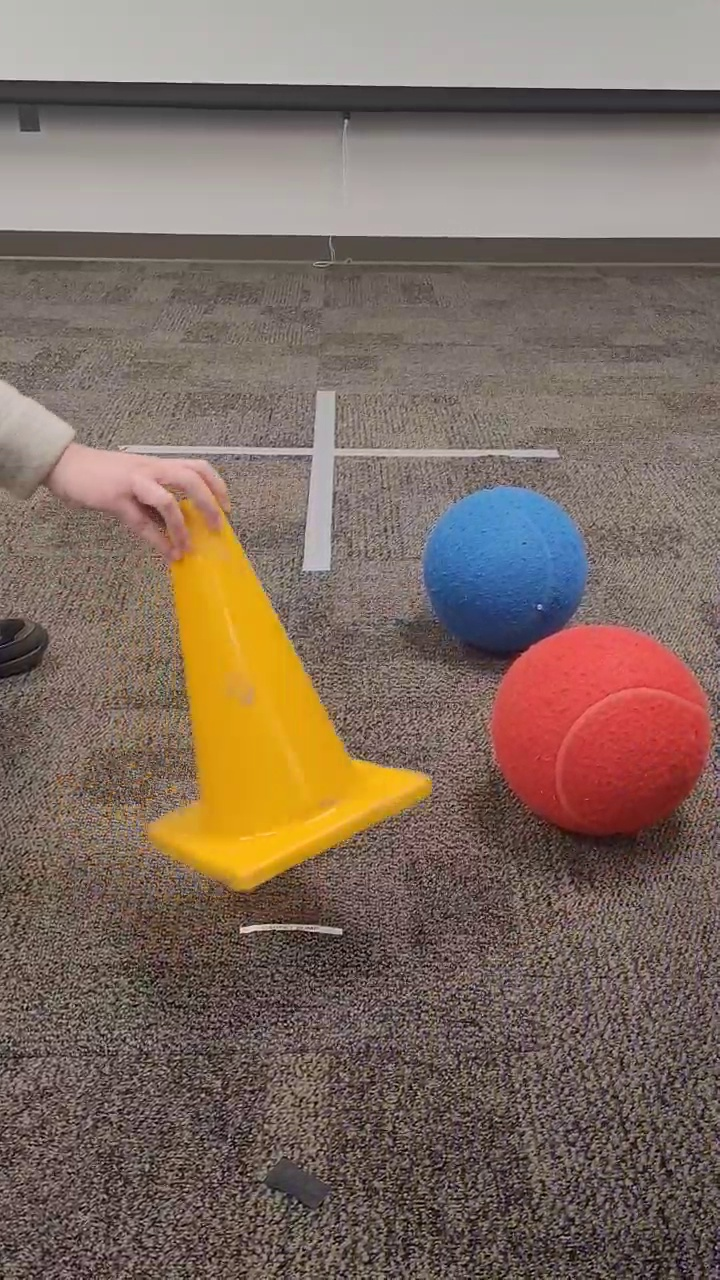ball: (487, 620, 714, 843), (417, 480, 592, 660)
cone: (143, 488, 436, 897)
foot: (1, 612, 52, 685)
hand: (1, 373, 236, 564)
